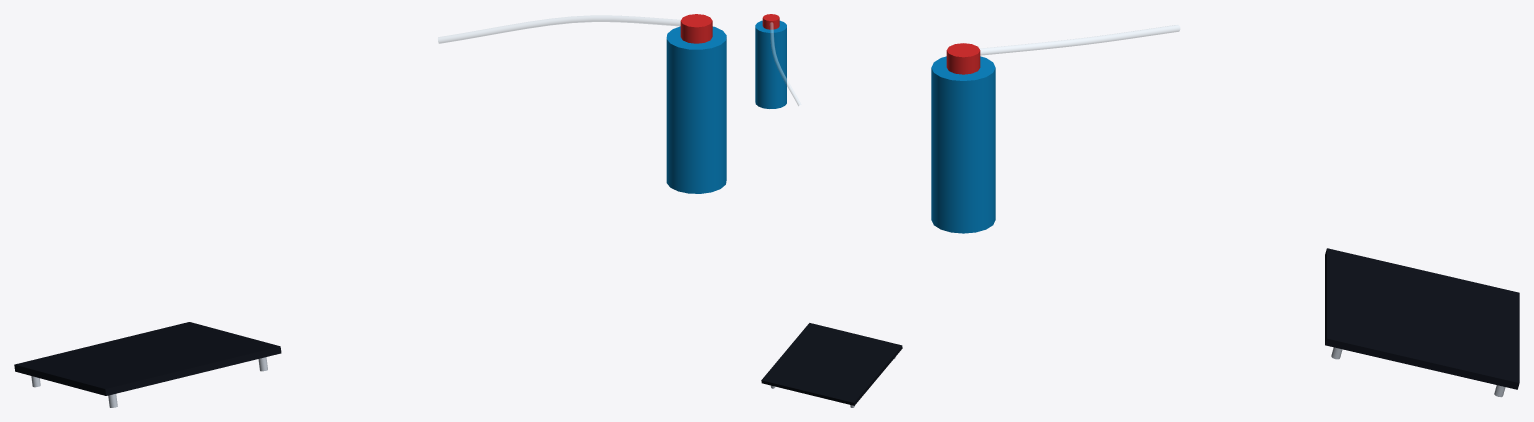
Rendered from driver_drink_footboard.glb.
3 views of the same model, side by side, from view 1: azimuth 30°, elevation 25°; view 2: azimuth 150°, elevation 25°; view 3: azimuth 270°, elevation 25° (orthographic). The views are drawn at different scales.
Visible parts, largest first — view 1: Drink_Bottle_Footboard_Assembly; view 2: Drink_Bottle_Footboard_Assembly; view 3: Drink_Bottle_Footboard_Assembly.
Boxes of the visible parts, bbox=[...] form: Drink_Bottle_Footboard_Assembly: bbox=[14, 14, 726, 407]; Drink_Bottle_Footboard_Assembly: bbox=[755, 14, 902, 407]; Drink_Bottle_Footboard_Assembly: bbox=[931, 25, 1519, 397].
Size of the model in its own units: 0.712 by 0.6903 by 0.7692.
